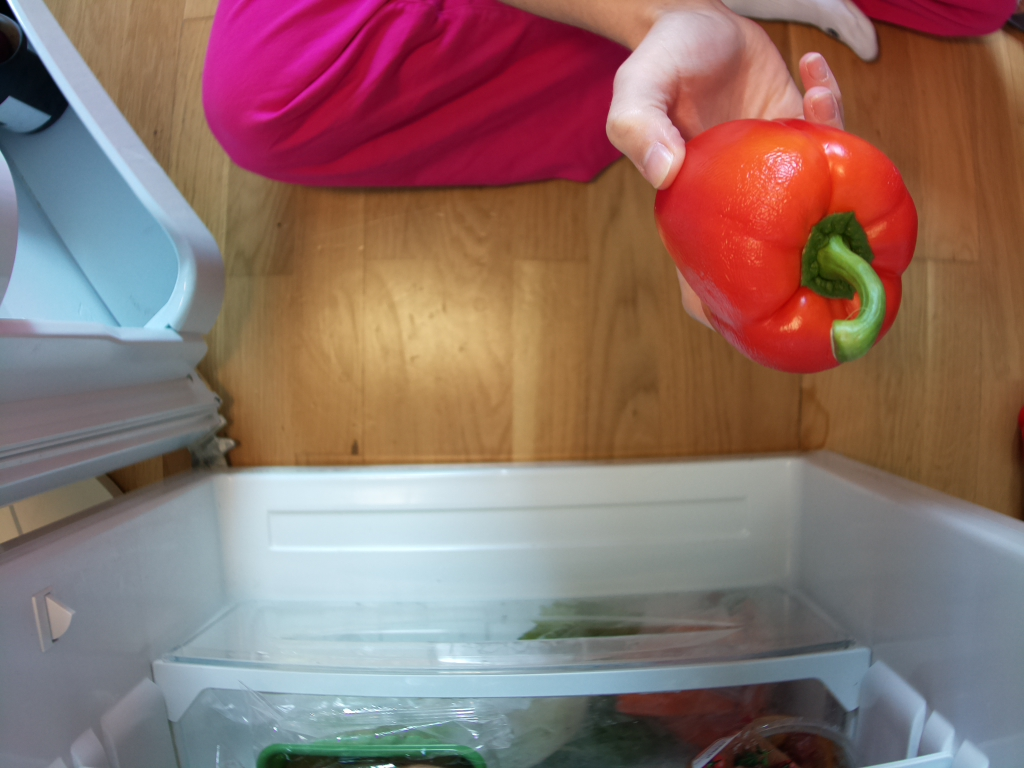pepper-bad: (643, 109, 925, 381)
